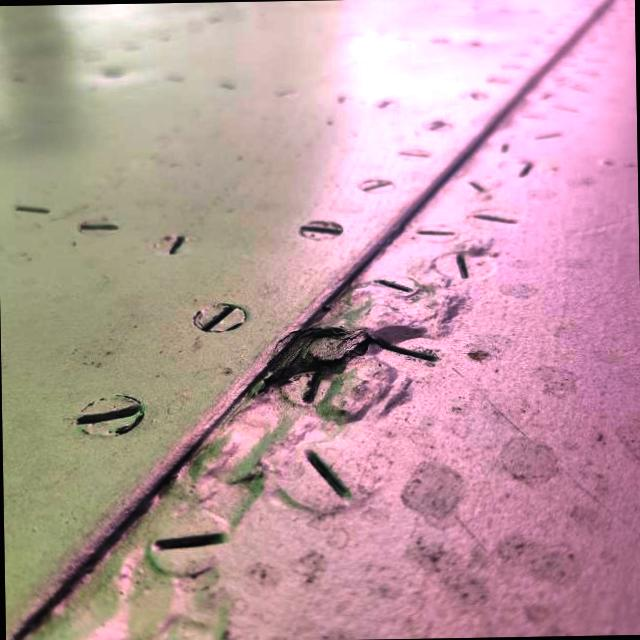paint-off: (222, 306, 408, 432)
